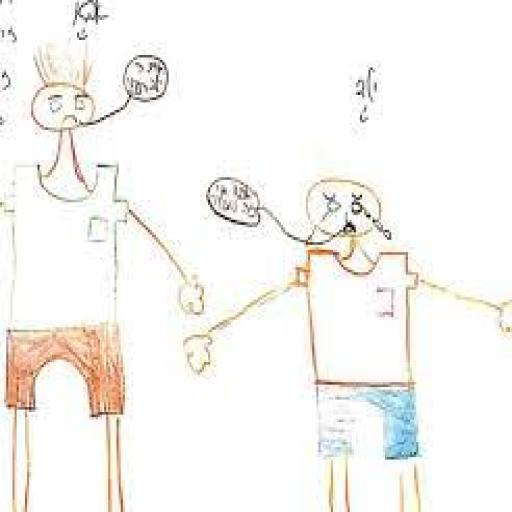person: (185, 168, 512, 510), (2, 38, 208, 510)
